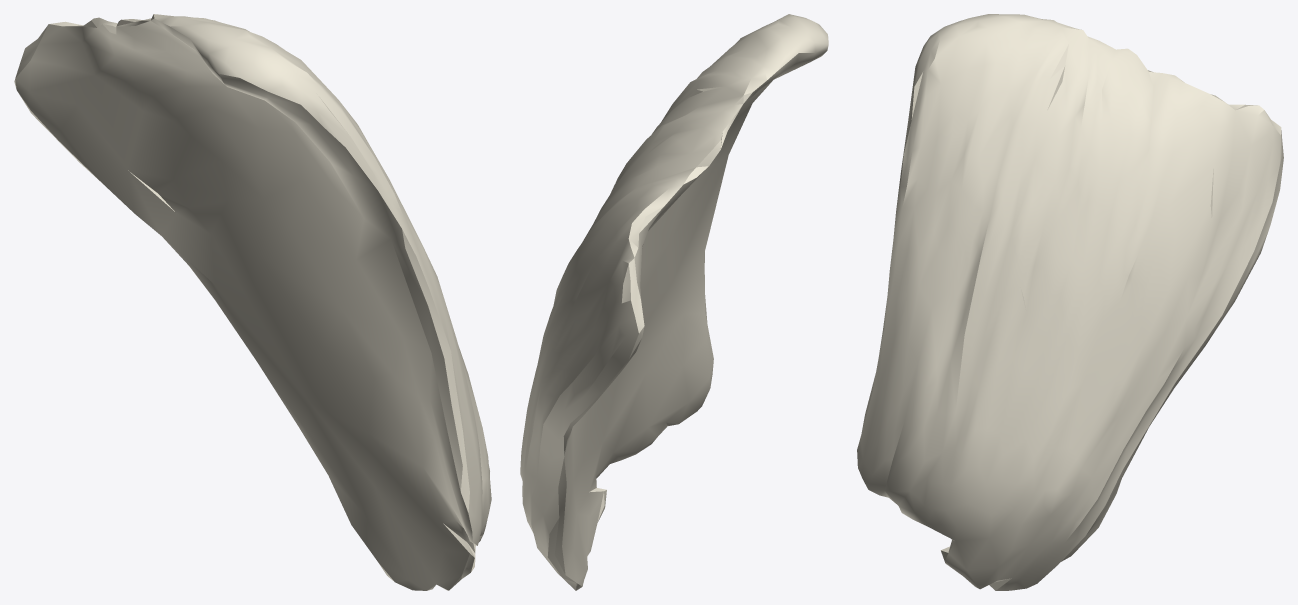
Rendered from fma326800-l_mm1487.glb.
3 views of the same model, side by side, from view 1: azimuth 30°, elevation 25°; view 2: azimuth 150°, elevation 25°; view 3: azimuth 270°, elevation 25° (orthographic). The views are drawn at different scales.
Parts seen in each view (by area): view 1: FMA326800-L_MM1487; view 2: FMA326800-L_MM1487; view 3: FMA326800-L_MM1487.
Boxes of the visible parts, <box> form: FMA326800-L_MM1487: <box>14,14,491,590</box>; FMA326800-L_MM1487: <box>520,14,828,590</box>; FMA326800-L_MM1487: <box>857,14,1283,590</box>.
Bounding box in the file's own units: 0.00773 × 0.0166 × 0.013.
